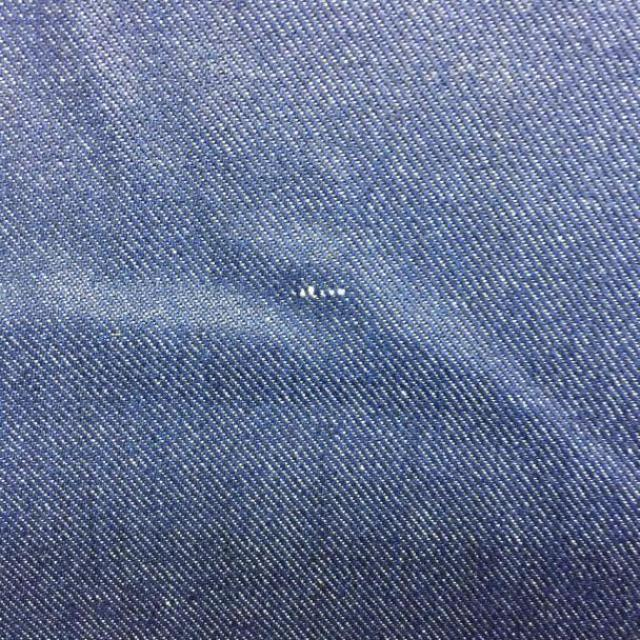Knot: (291, 285, 347, 299)
